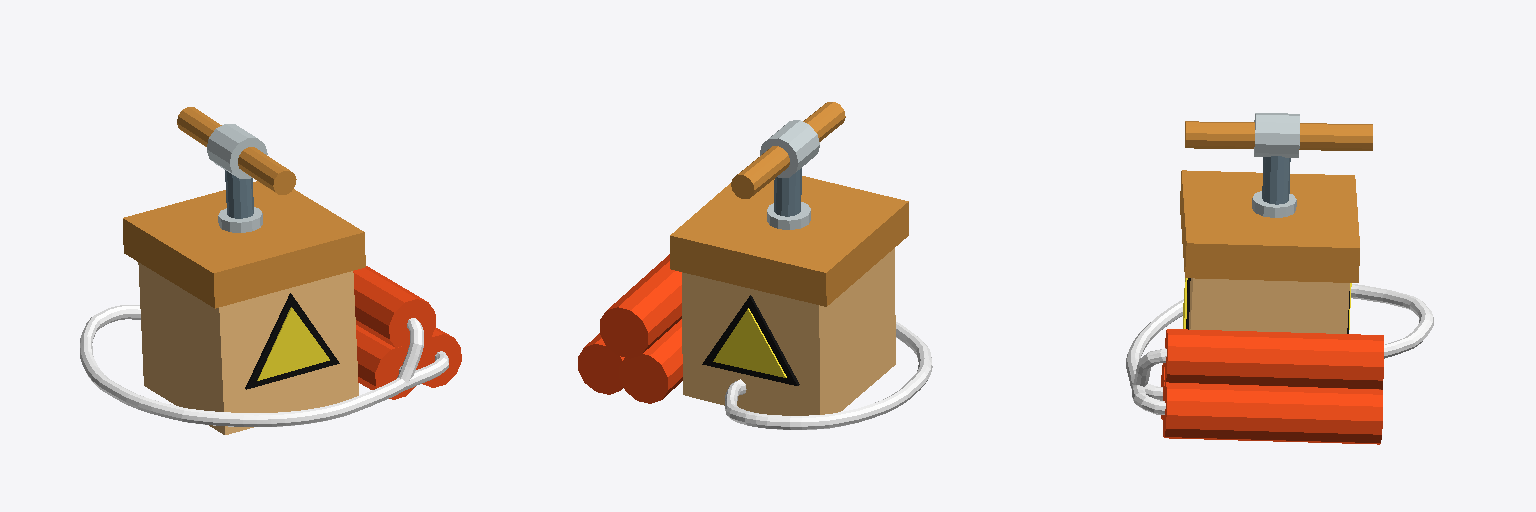
3 views of the same model, side by side, from view 1: azimuth 30°, elevation 25°; view 2: azimuth 150°, elevation 25°; view 3: azimuth 270°, elevation 25° (orthographic).
Visible parts, largest first — view 1: group[number redacted], group[number redacted], group[number redacted], group[number redacted], group[number redacted], group[number redacted], group[number redacted], group[number redacted], group[number redacted], group[number redacted], group[number redacted], group[number redacted] (+2 smaller); view 2: group[number redacted], group[number redacted], group[number redacted], group[number redacted], group[number redacted], group[number redacted], group[number redacted], group[number redacted], group[number redacted], group[number redacted], group[number redacted], group[number redacted]; view 3: group[number redacted], group[number redacted], group[number redacted], group[number redacted], group[number redacted], group[number redacted], group[number redacted], group[number redacted], group[number redacted], group[number redacted], group[number redacted].
Boxes of the visible parts, box(x1,y1,x2,y2) form: group[number redacted]: box(138, 262, 358, 434); group[number redacted]: box(123, 181, 365, 308); group[number redacted]: box(80, 305, 373, 426); group[number redacted]: box(353, 266, 435, 347); group[number redacted]: box(177, 107, 296, 194); group[number redacted]: box(257, 307, 329, 380); group[number redacted]: box(356, 325, 415, 399); group[number redacted]: box(207, 124, 267, 178); group[number redacted]: box(245, 293, 339, 389); group[number redacted]: box(416, 327, 461, 387); group[number redacted]: box(225, 170, 253, 218); group[number redacted]: box(397, 318, 423, 382); group[number redacted]: box(682, 248, 895, 415); group[number redacted]: box(670, 176, 908, 306); group[number redacted]: box(600, 254, 681, 358); group[number redacted]: box(725, 322, 932, 429); group[number redacted]: box(619, 319, 682, 403); group[number redacted]: box(731, 102, 845, 198); group[number redacted]: box(713, 308, 786, 377); group[number redacted]: box(578, 333, 624, 394); group[number redacted]: box(760, 120, 819, 177); group[number redacted]: box(702, 295, 799, 385); group[number redacted]: box(774, 168, 801, 216); group[number redacted]: box(767, 202, 810, 229); group[number redacted]: box(1180, 170, 1359, 282); group[number redacted]: box(1163, 382, 1382, 444); group[number redacted]: box(1164, 329, 1383, 389); group[number redacted]: box(1189, 278, 1349, 333); group[number redacted]: box(1185, 121, 1372, 150); group[number redacted]: box(1126, 284, 1433, 376); group[number redacted]: box(1254, 113, 1299, 157); group[number redacted]: box(1262, 156, 1290, 204); group[number redacted]: box(1252, 191, 1296, 217); group[number redacted]: box(1133, 348, 1166, 386); group[number redacted]: box(1132, 385, 1165, 414).
Size of the model in its own units: 0.4674 by 0.3957 by 0.4195.